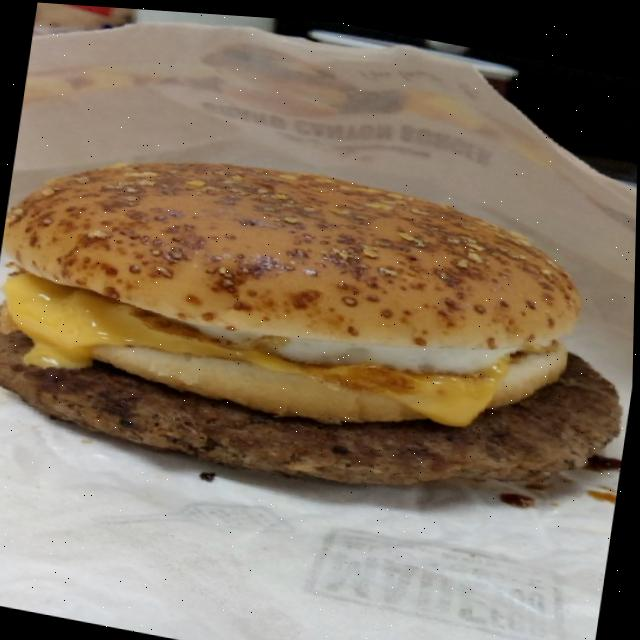汉堡快餐: (0, 96, 638, 495)
